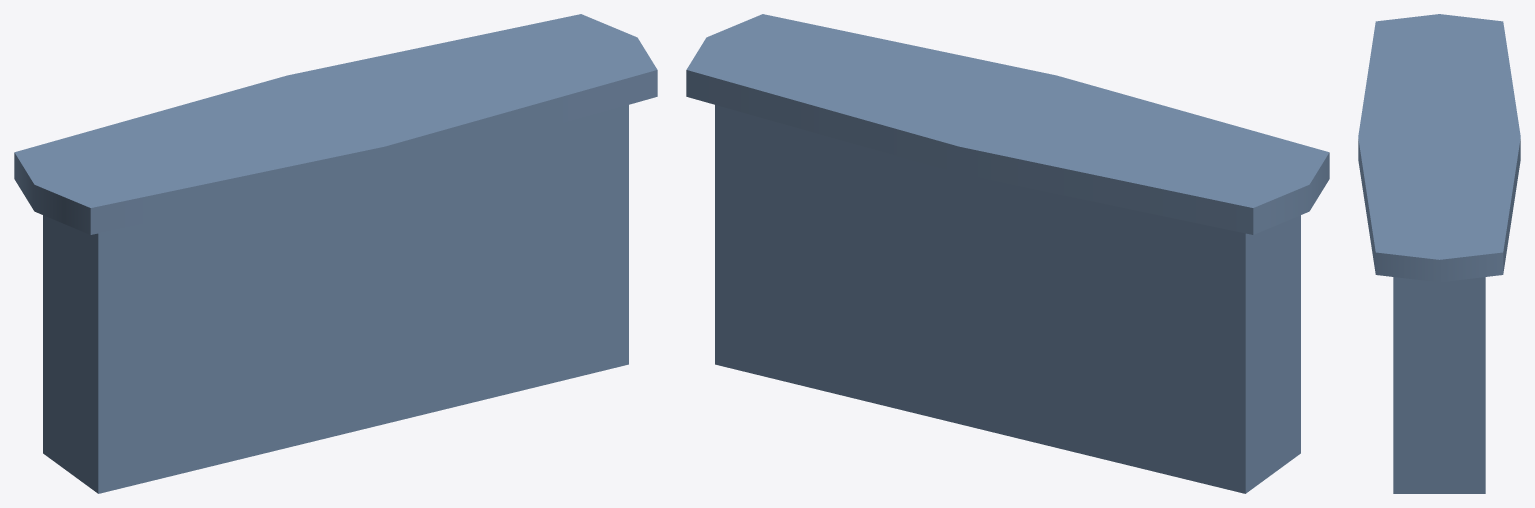
Rendered from wallObstacle.fbx.
The picture shows the model from 3 angles, left to right: view 1: azimuth 30°, elevation 25°; view 2: azimuth 150°, elevation 25°; view 3: azimuth 270°, elevation 25°; orthographic projection. The views are drawn at different scales.
Parts seen in each view (by area): view 1: WallObstacle; view 2: WallObstacle; view 3: WallObstacle.
Part boxes in pixels (x1=…): WallObstacle: x1=14, y1=14, x2=657, y2=493; WallObstacle: x1=686, y1=14, x2=1329, y2=493; WallObstacle: x1=1358, y1=14, x2=1520, y2=493.
Size of the model in its own units: 6.3 by 2.97 by 1.76.
